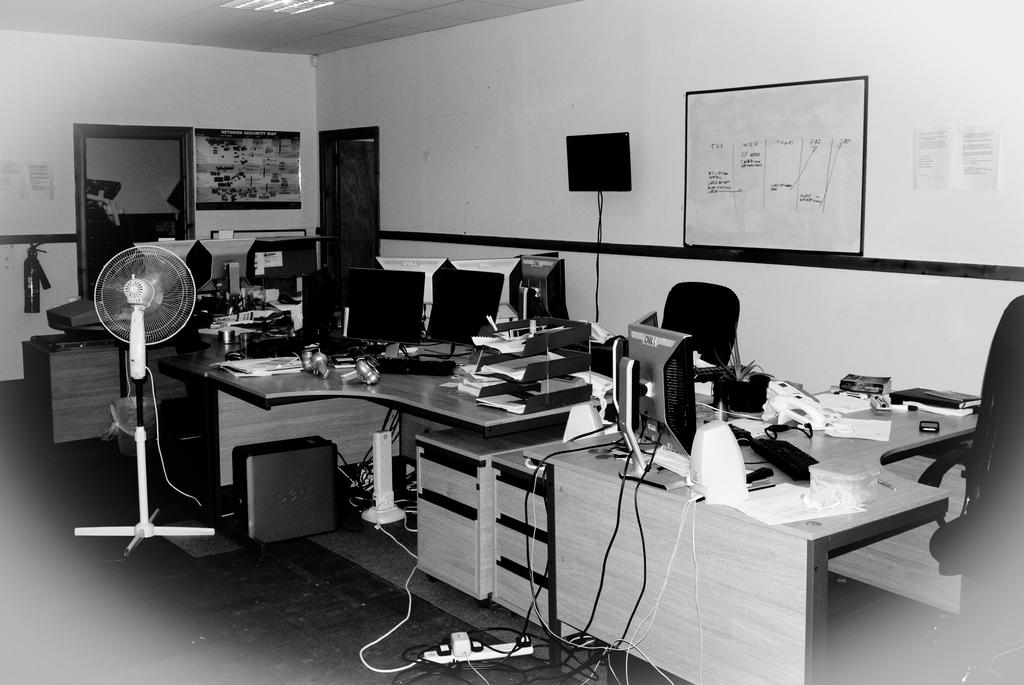Chair: (660, 281, 740, 378)
Computer-monitor: (611, 318, 699, 487)
